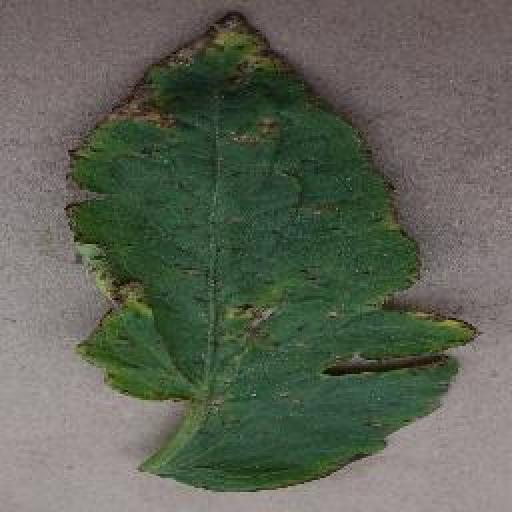Bacterial Spot: (55, 8, 484, 495)
